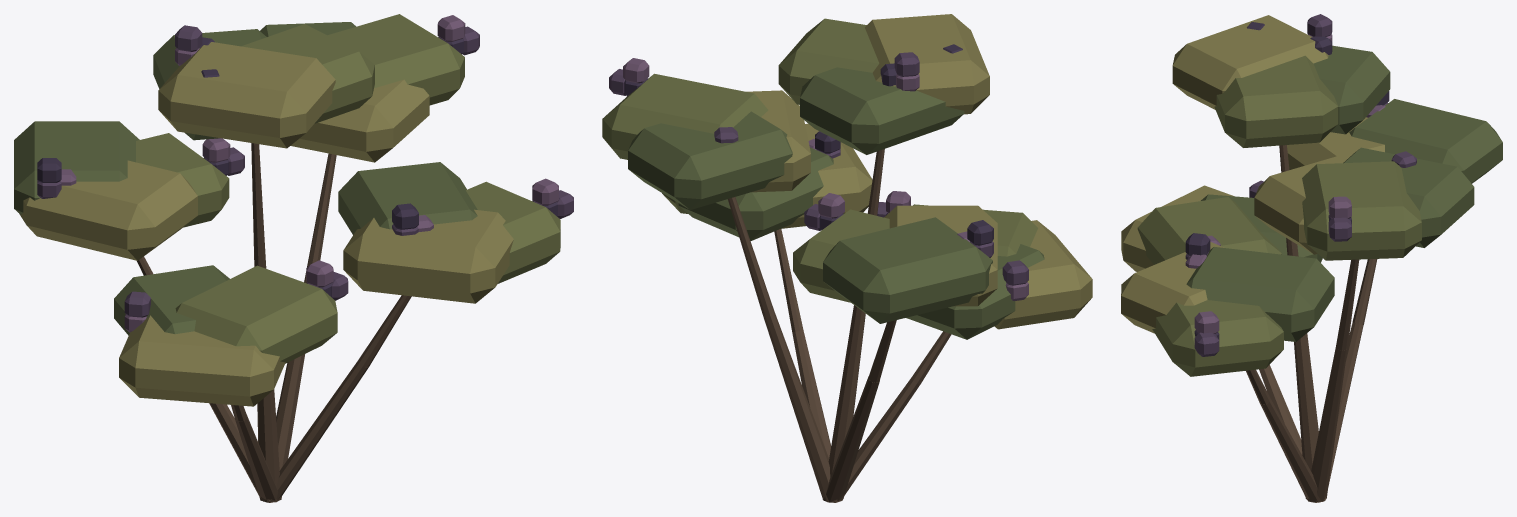
The model's file is elderberry_autumn.glb.
The picture shows the model from 3 angles, left to right: view 1: azimuth 30°, elevation 25°; view 2: azimuth 150°, elevation 25°; view 3: azimuth 270°, elevation 25°; orthographic projection. The views are drawn at different scales.
Parts seen in each view (by area): view 1: elderberry_autumn; view 2: elderberry_autumn; view 3: elderberry_autumn.
Part boxes in pixels (x1=…): elderberry_autumn: x1=14, y1=14, x2=573, y2=502; elderberry_autumn: x1=602, y1=14, x2=1092, y2=502; elderberry_autumn: x1=1121, y1=14, x2=1502, y2=502.
Bounding box in the file's own units: 2.25 × 2.32 × 1.8.
